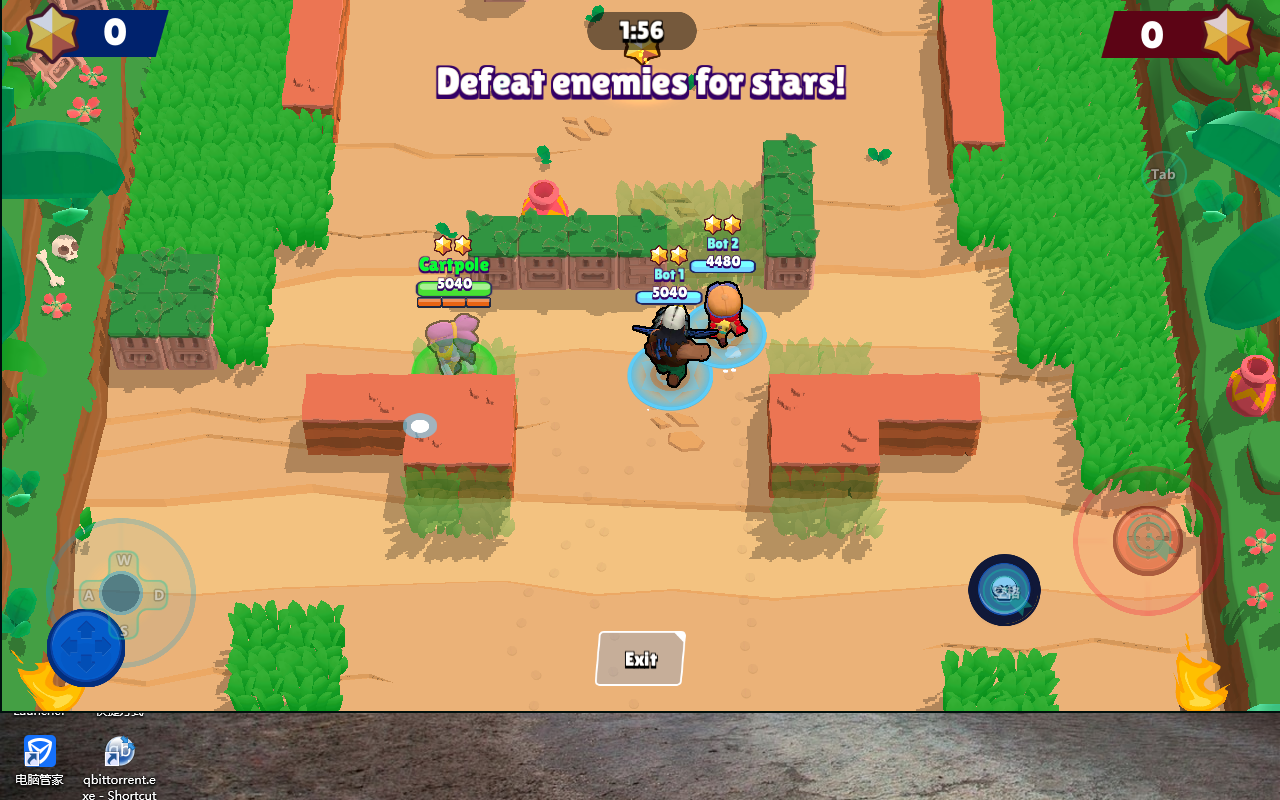current_player: (413, 341, 498, 395)
